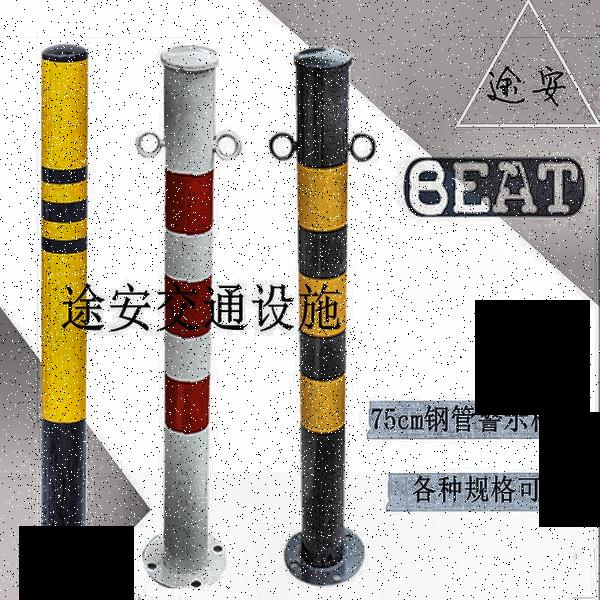bench: (150, 36, 225, 579), (27, 39, 99, 580), (286, 39, 357, 574)
